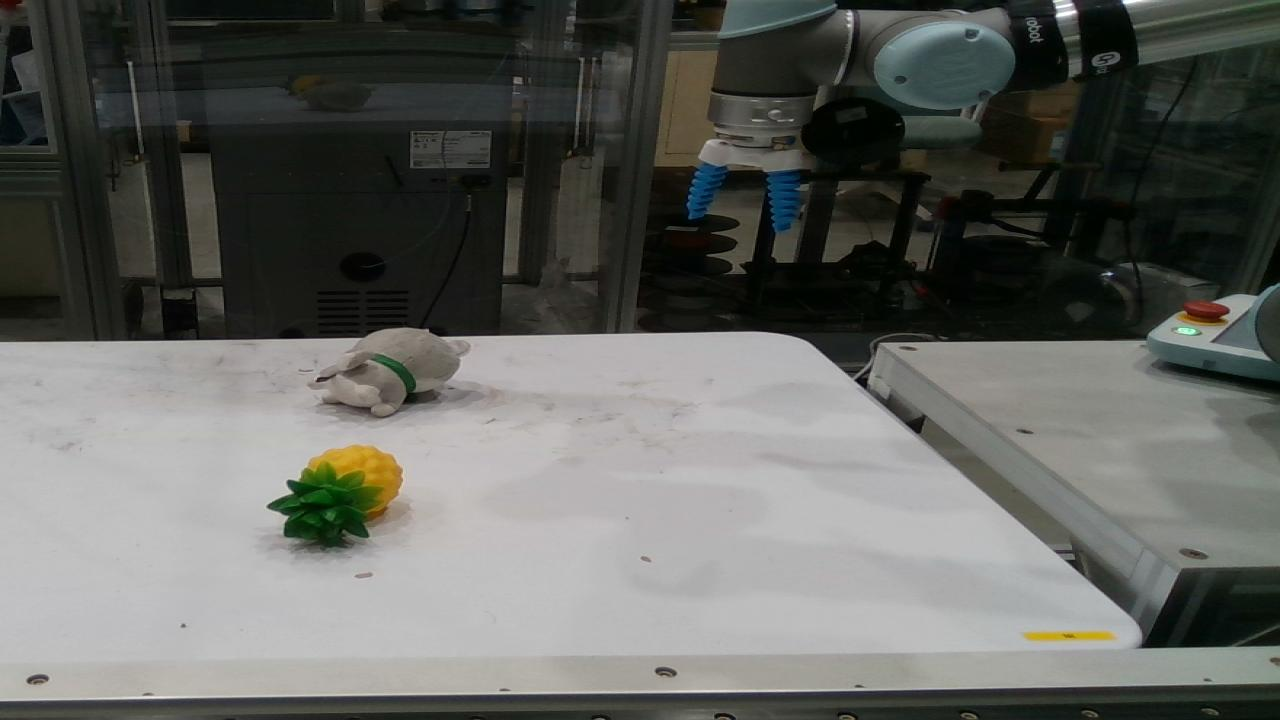UR5: (700, 0, 1279, 170), (1148, 285, 1279, 381)
gripper_left: (687, 162, 727, 219)
gripper_right: (765, 170, 800, 234)
target: (310, 328, 470, 416), (268, 445, 401, 546)
